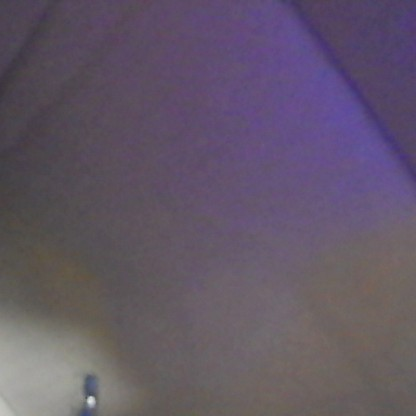ironball: (77, 392, 96, 412)
